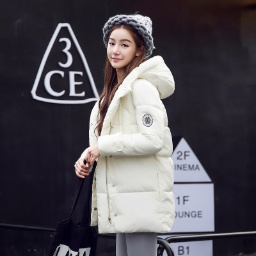face: (93, 18, 153, 84)
